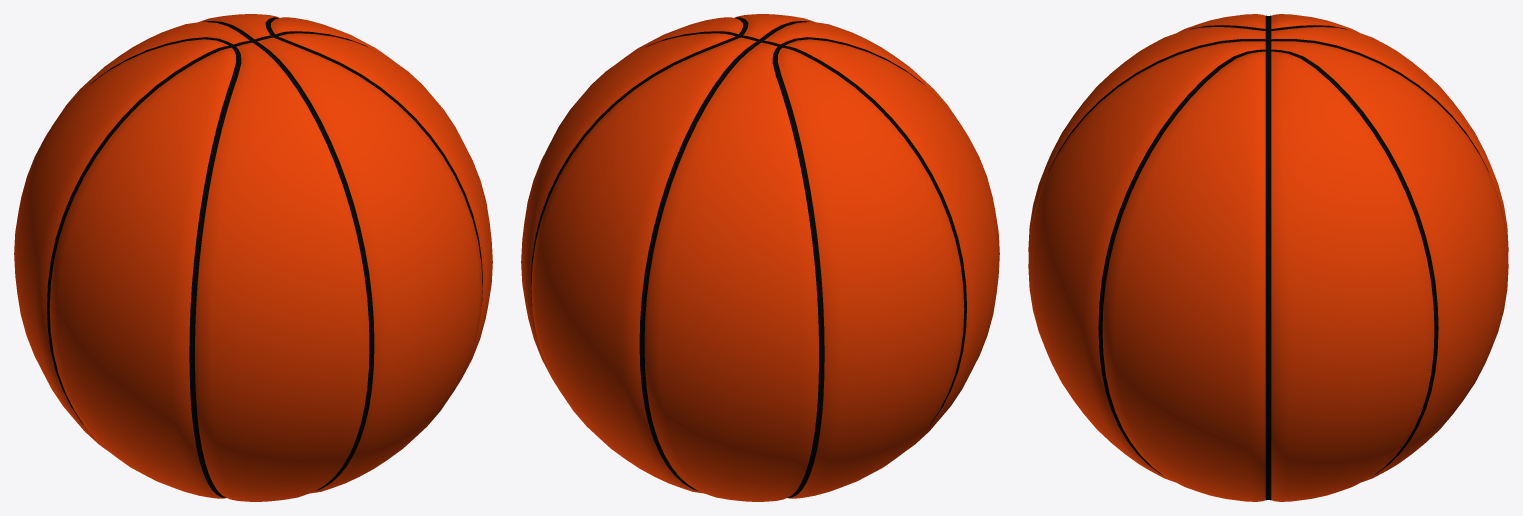
Rendered from basketball.glb.
3 views of the same model, side by side, from view 1: azimuth 30°, elevation 25°; view 2: azimuth 150°, elevation 25°; view 3: azimuth 270°, elevation 25° (orthographic).
Parts seen in each view (by area): view 1: Sphere; view 2: Sphere; view 3: Sphere.
Part boxes in pixels (x1,y1,x2,y2): Sphere: (14,14,492,501); Sphere: (521,14,999,501); Sphere: (1028,14,1508,501).
Size of the model in its own units: 1.94 by 1.96 by 1.94.
